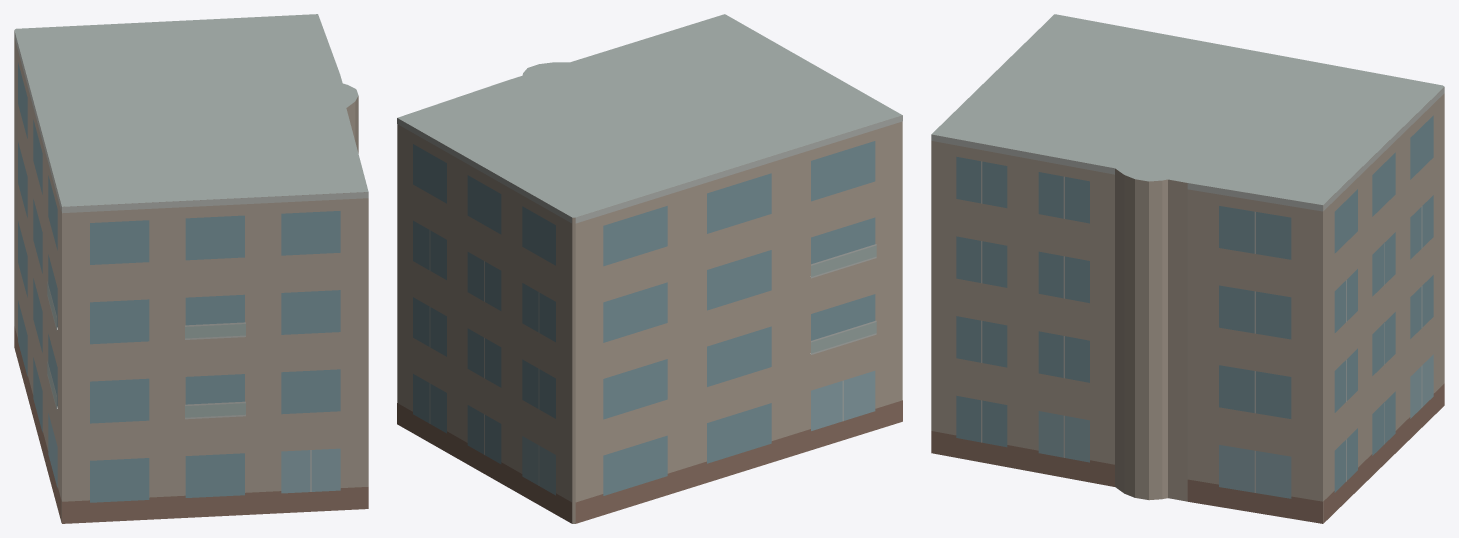
File: survey-upis-32942734.glb
3 views of the same model, side by side, from view 1: azimuth 30°, elevation 25°; view 2: azimuth 150°, elevation 25°; view 3: azimuth 270°, elevation 25° (orthographic). The views are drawn at different scales.
Visible parts, largest first — view 1: survey-upis-32942734.tmp; view 2: survey-upis-32942734.tmp; view 3: survey-upis-32942734.tmp.
Boxes of the visible parts, x1,y1,x2,y2 form: survey-upis-32942734.tmp: (14, 14, 368, 523); survey-upis-32942734.tmp: (397, 14, 902, 523); survey-upis-32942734.tmp: (931, 14, 1444, 523).
Size of the model in its own units: 15.7 by 12.2 by 17.82.
